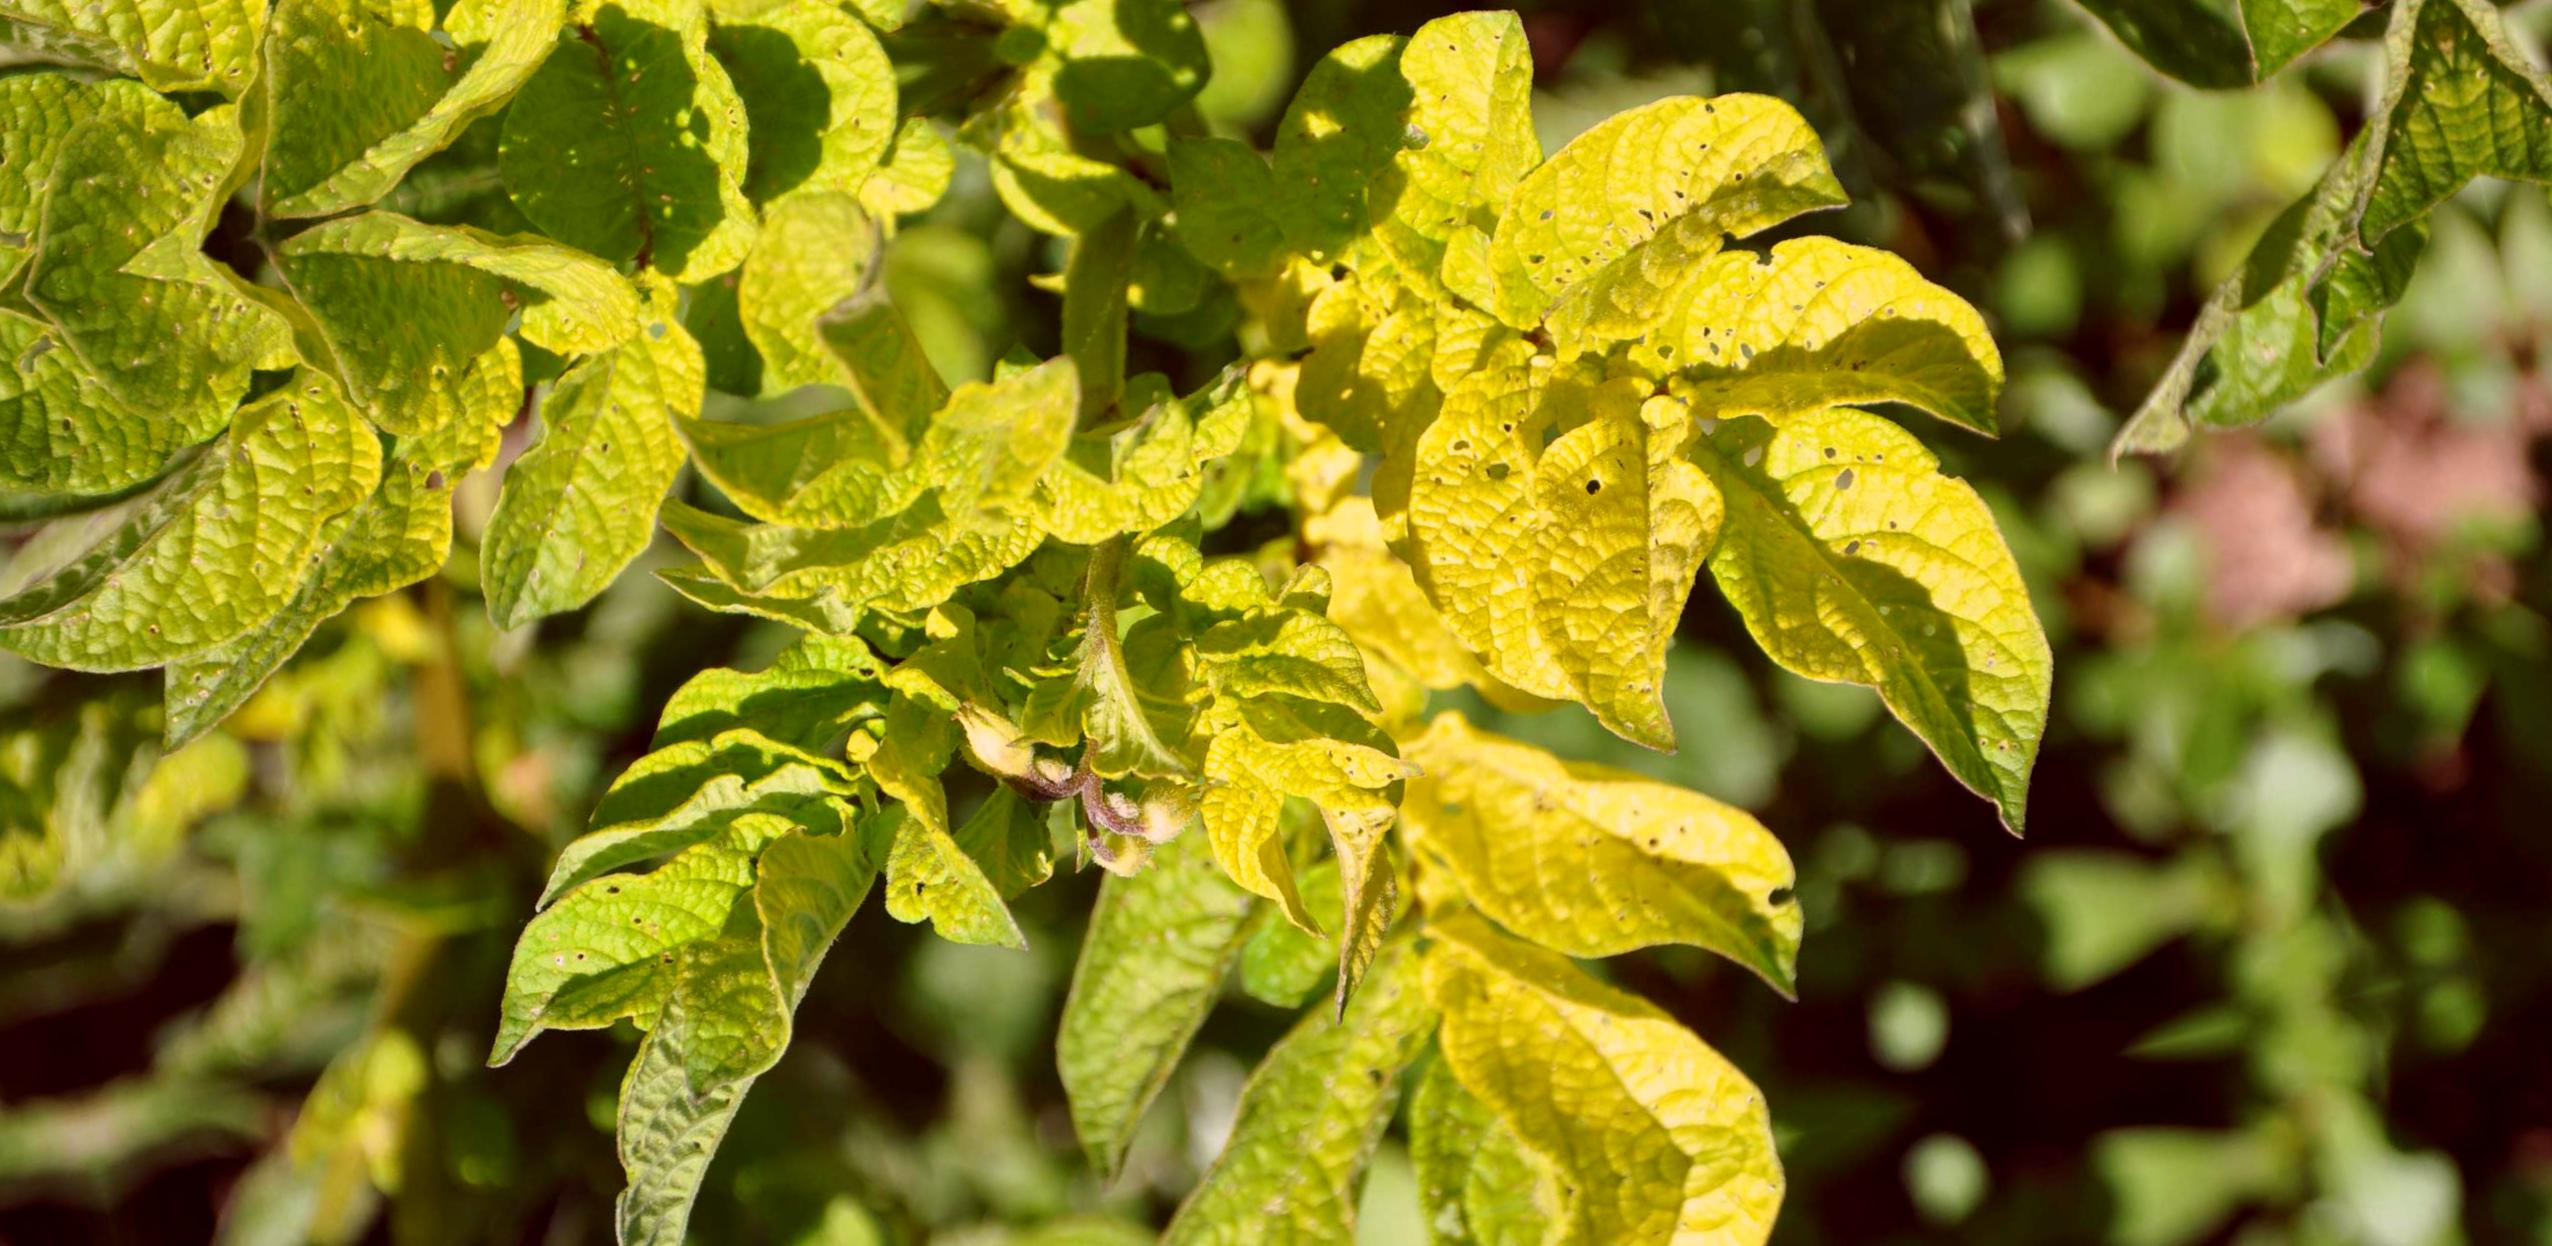Tomato leaf yellow virus: (1663, 377, 2160, 880), (597, 270, 1141, 699), (378, 161, 811, 699), (1388, 612, 1842, 1057), (0, 320, 459, 732), (415, 756, 871, 1119), (1382, 859, 1790, 1222), (1465, 343, 1771, 805), (1032, 989, 1445, 1246), (2147, 0, 2456, 138)
